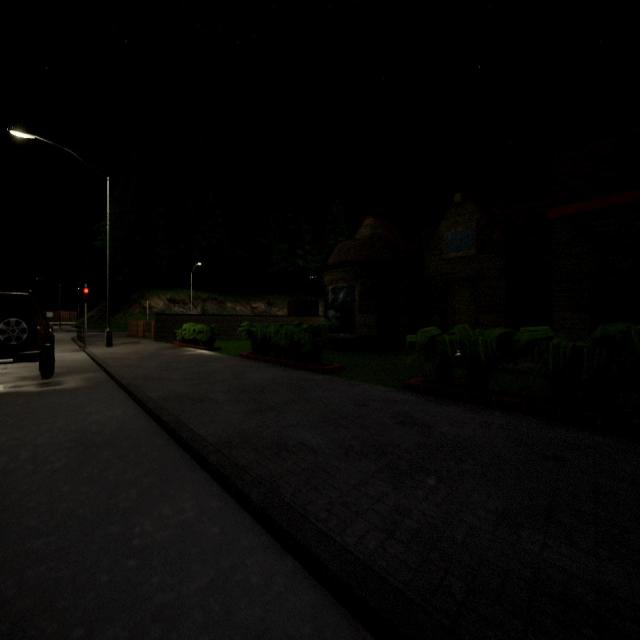Vehicle: (0, 292, 55, 379)
traffic_light: (84, 287, 88, 304), (148, 303, 151, 311)
